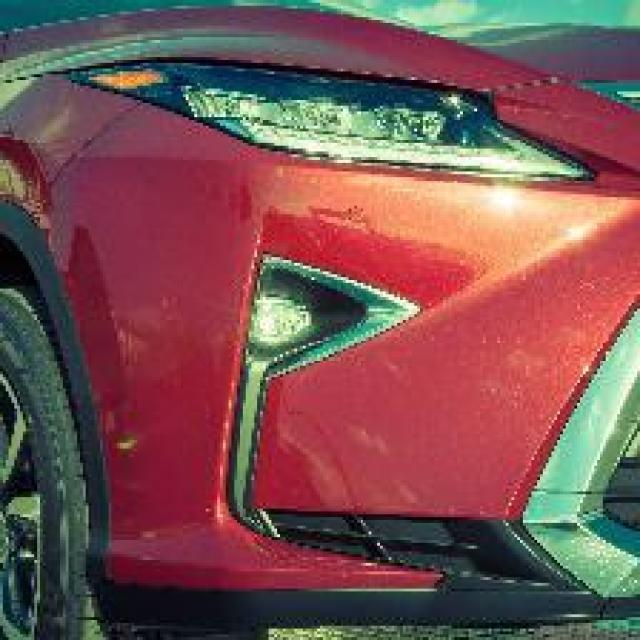damaged: (91, 379, 483, 592)
